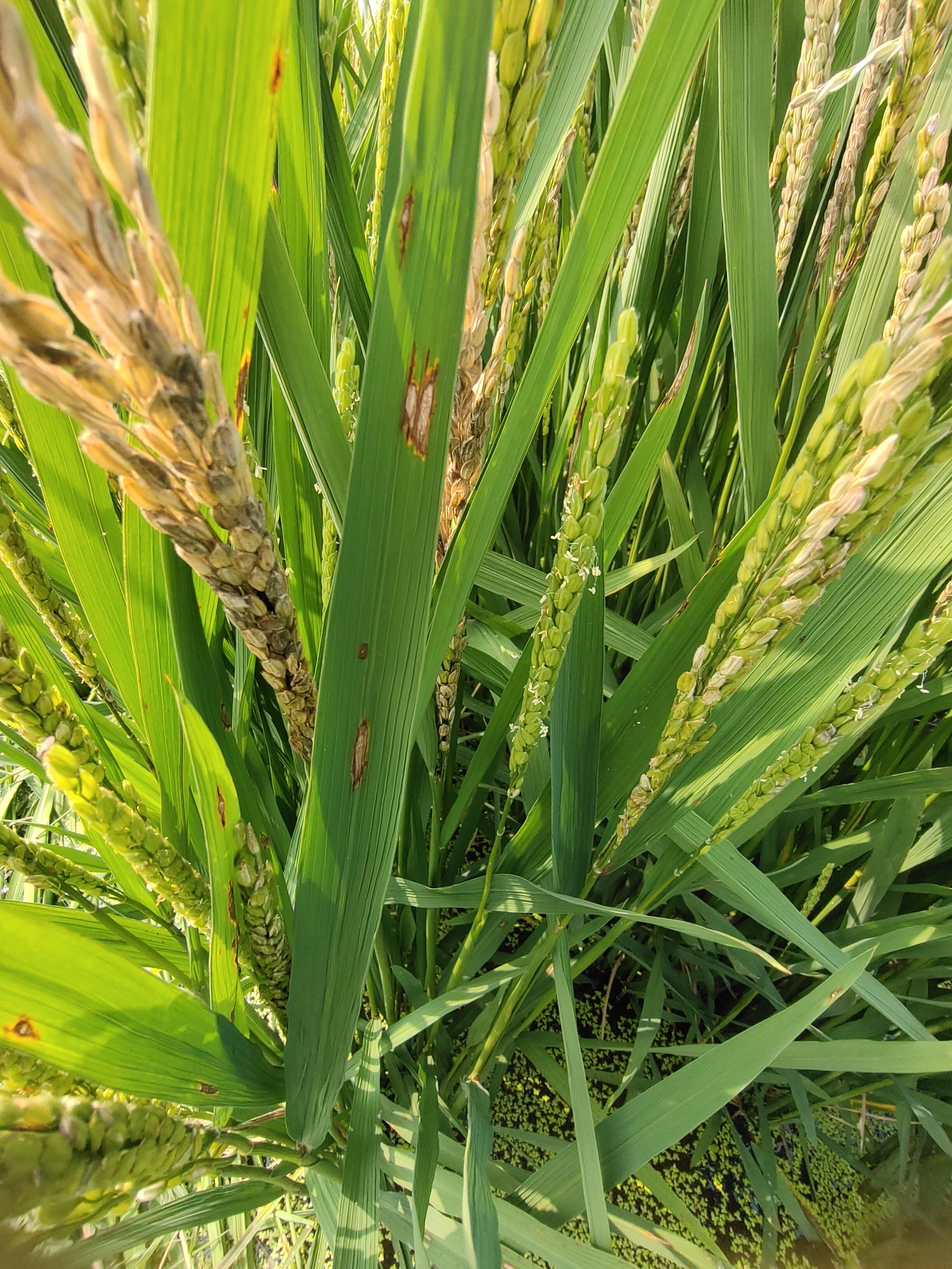LEAF: (285, 0, 492, 1148)
LEAF BLAST: (399, 341, 440, 461), (352, 717, 369, 788), (400, 191, 413, 261), (358, 643, 368, 659)
